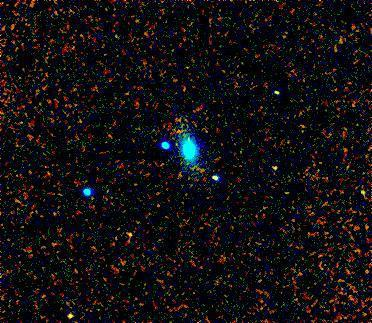star: (50, 299, 80, 323)
